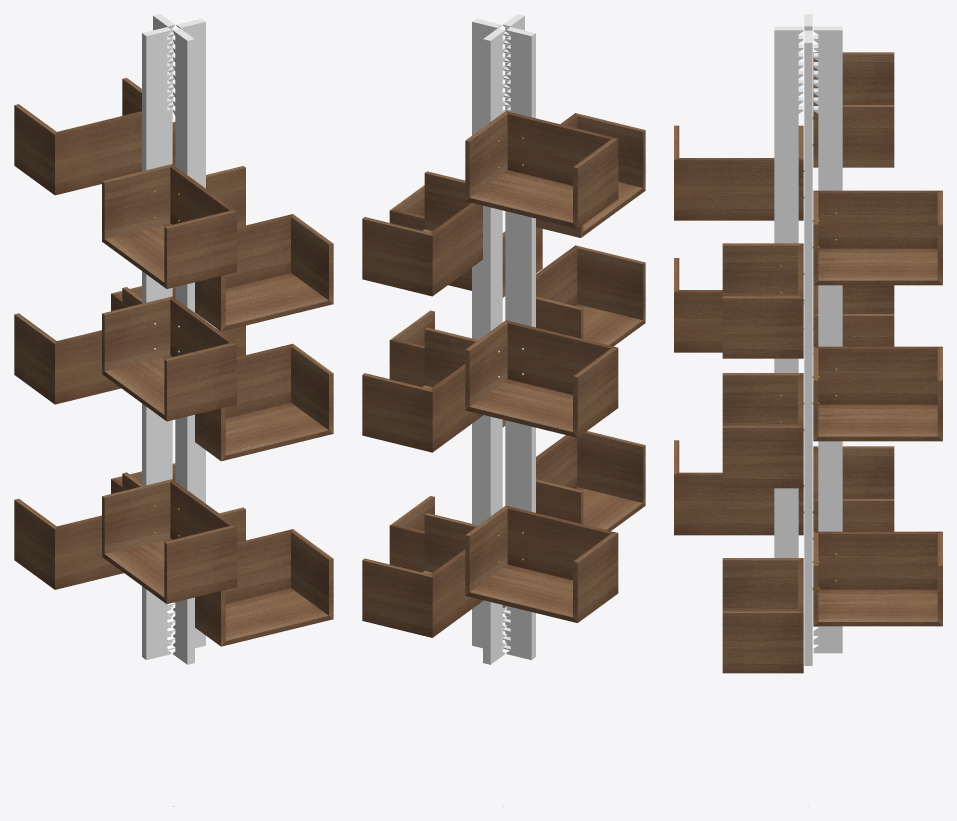
File: italianBookcase.glb
The picture shows the model from 3 angles, left to right: view 1: azimuth 30°, elevation 25°; view 2: azimuth 150°, elevation 25°; view 3: azimuth 270°, elevation 25°; orthographic projection.
Visible parts, largest first — view 1: Cube.001, Plane.011, Plane.010, Plane.012, Plane.003, Plane.001, Plane.002, Plane.009, Plane.007, Plane.008, Plane.006, Plane.004 (+1 smaller); view 2: Cube.001, Plane.008, Plane.009, Plane.007, Plane.006, Plane.010, Plane.011, Plane.005, Plane.004, Plane.012, Plane.002, Plane.001 (+1 smaller); view 3: Cube.001, Plane.004, Plane.005, Plane.006, Plane.001, Plane.003, Plane.002, Plane.012, Plane.009, Plane.010, Plane.007, Plane.008 (+1 smaller).
Part boxes in pixels (<box>): Cube.001: <box>142,14,205,664</box>; Plane.011: <box>102,296,236,421</box>; Plane.010: <box>102,479,236,603</box>; Plane.012: <box>102,164,236,288</box>; Plane.003: <box>195,214,333,331</box>; Plane.001: <box>195,529,333,646</box>; Plane.002: <box>195,343,333,461</box>; Plane.009: <box>14,78,141,195</box>; Plane.007: <box>14,472,141,589</box>; Plane.008: <box>14,287,141,404</box>; Plane.006: <box>172,122,245,227</box>; Plane.004: <box>111,463,245,542</box>; Cube.001: <box>472,14,535,664</box>; Plane.008: <box>465,320,618,437</box>; Plane.009: <box>465,111,618,228</box>; Plane.007: <box>465,505,618,622</box>; Plane.006: <box>362,171,482,296</box>; Plane.010: <box>536,431,645,530</box>; Plane.011: <box>536,245,645,346</box>; Plane.005: <box>362,327,482,452</box>; Plane.004: <box>362,513,482,637</box>; Plane.012: <box>536,113,645,237</box>; Plane.002: <box>389,310,505,427</box>; Plane.001: <box>389,496,505,612</box>; Cube.001: <box>774,14,842,665</box>; Plane.004: <box>813,531,942,626</box>; Plane.005: <box>813,346,942,441</box>; Plane.006: <box>813,190,942,285</box>; Plane.001: <box>722,558,803,673</box>; Plane.003: <box>722,243,803,358</box>; Plane.002: <box>722,373,803,488</box>; Plane.012: <box>674,125,803,220</box>; Plane.009: <box>813,52,894,167</box>; Plane.010: <box>674,440,803,535</box>; Plane.007: <box>813,446,894,531</box>; Plane.008: <box>813,285,894,346</box>.
Bounding box in the file's own units: 830 × 2650 × 830.
Materials: 4 (1 with a texture image).
